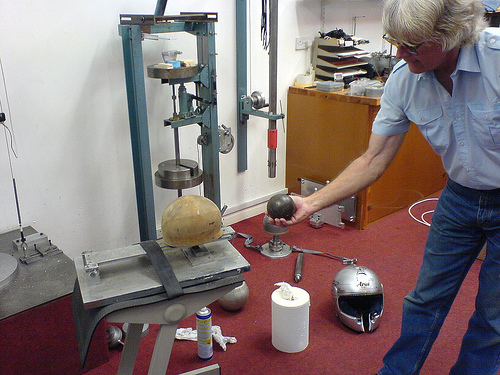helmet: (325, 265, 387, 326), (159, 199, 237, 238)
